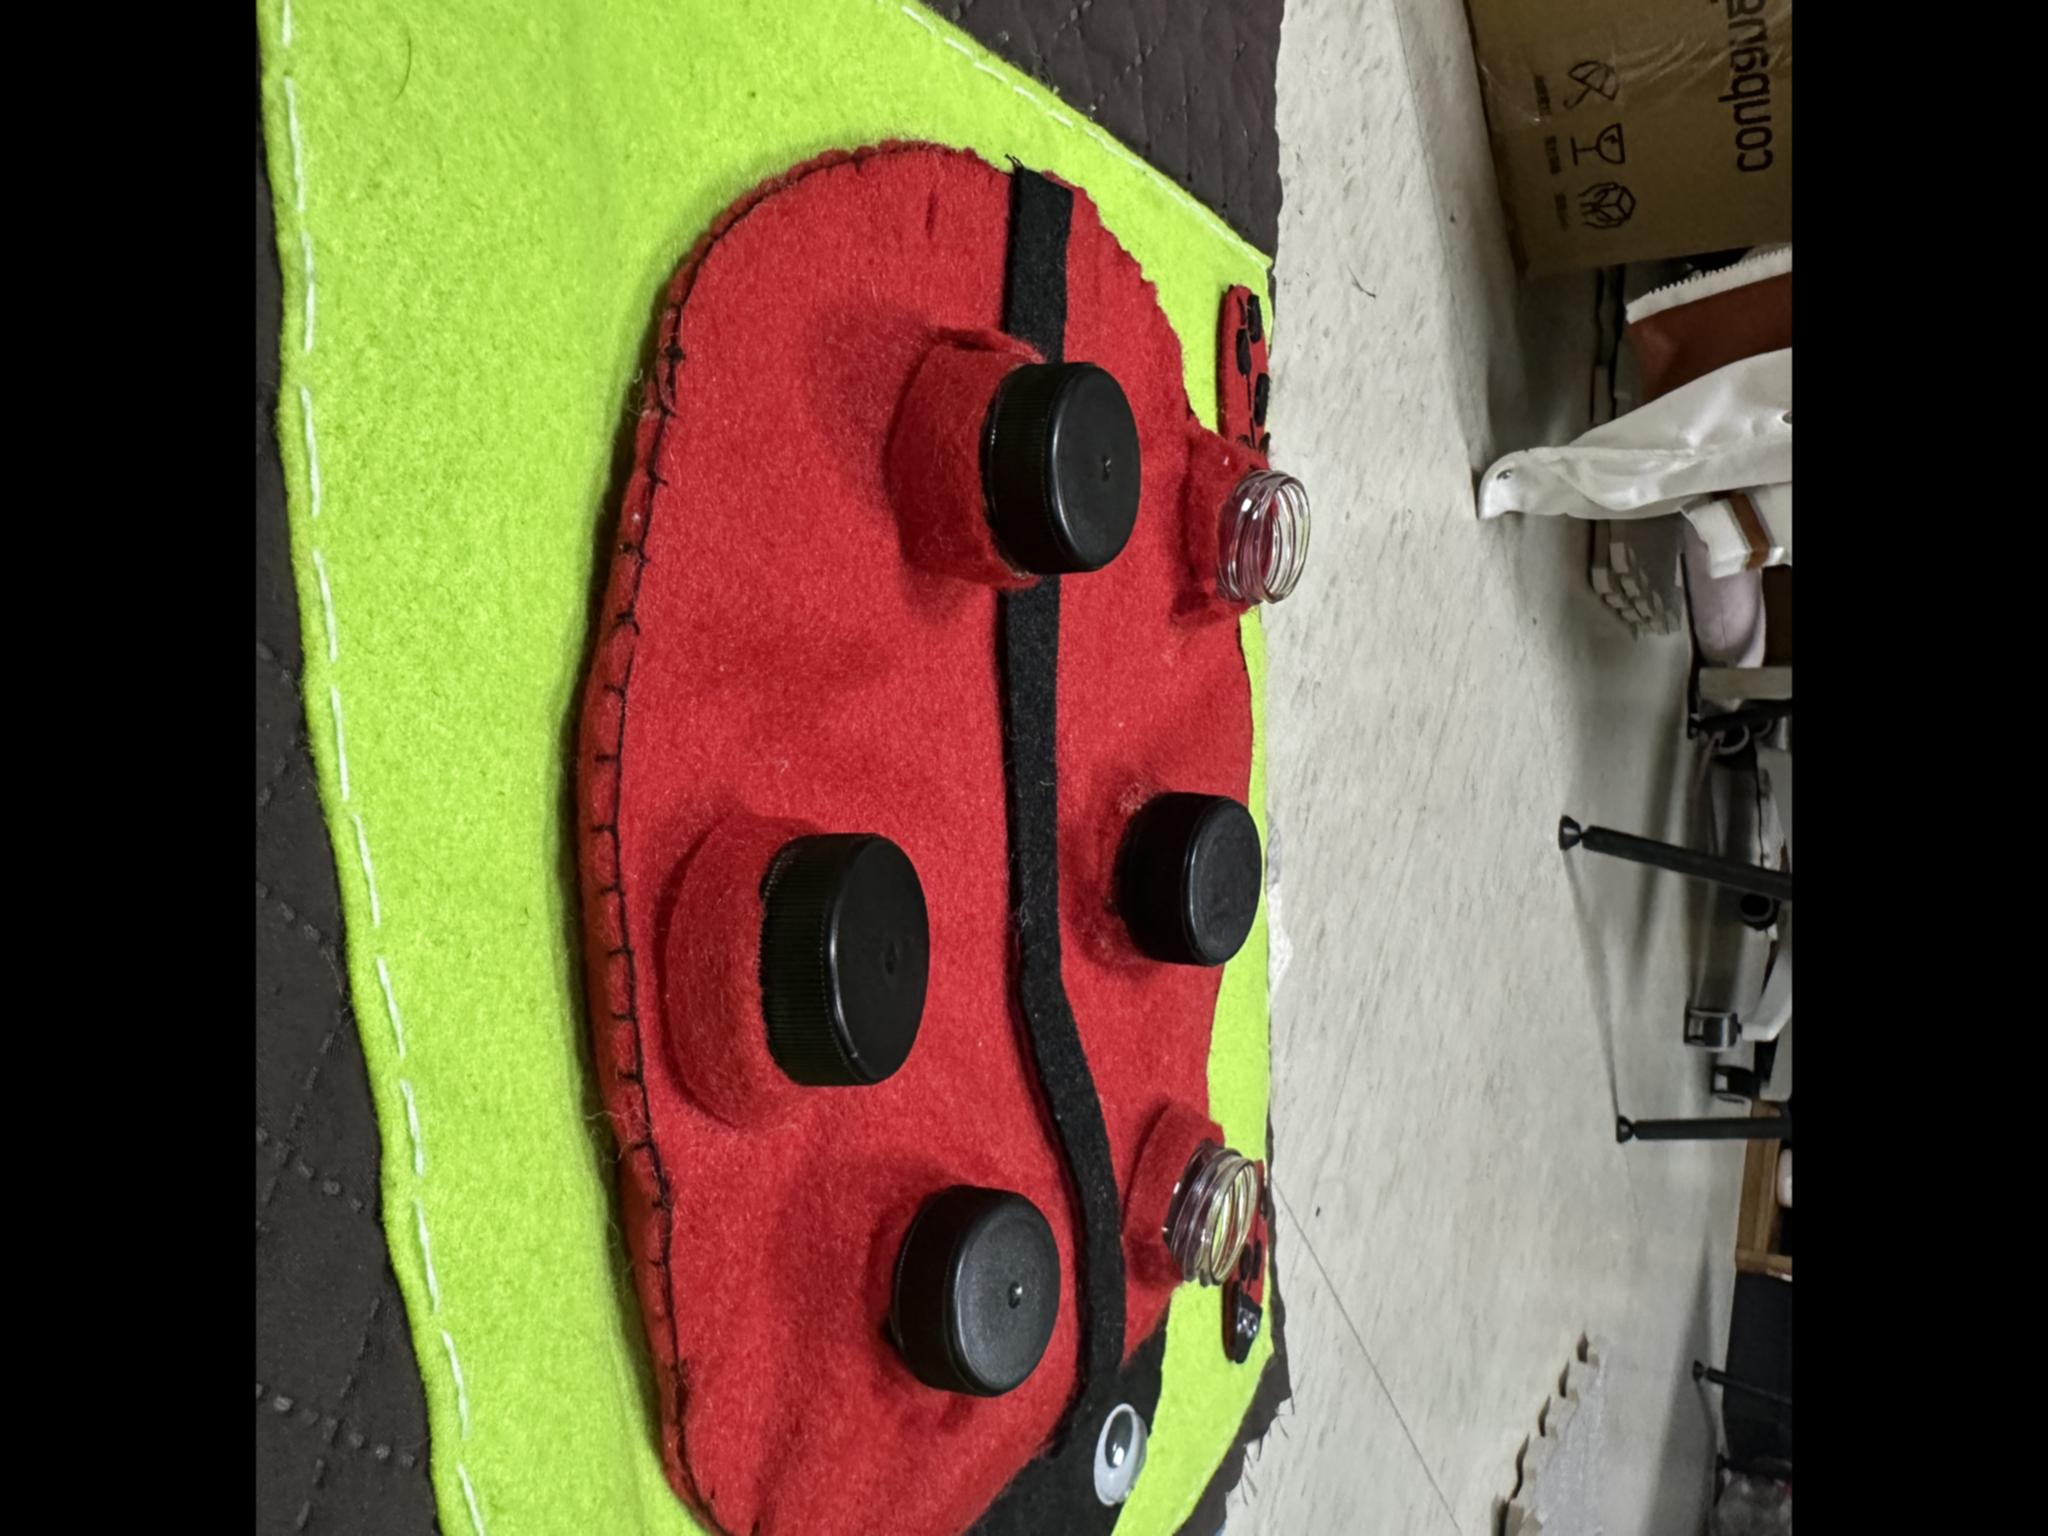cap_ok: (677, 803, 963, 1113), (890, 295, 1155, 603), (868, 1160, 1076, 1423), (1097, 749, 1276, 976)
